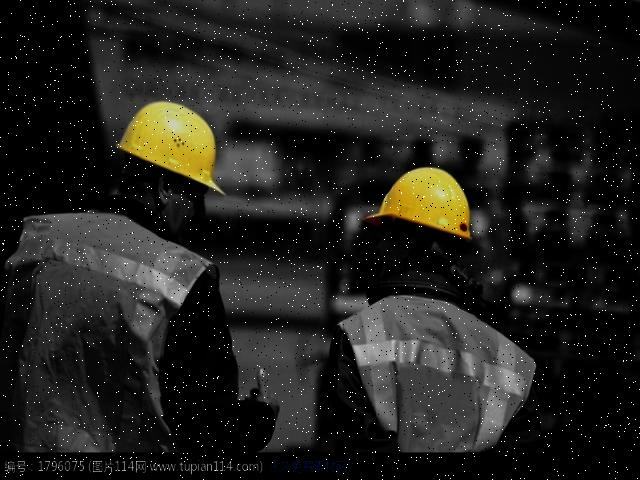Helmet: (110, 95, 232, 200), (357, 161, 478, 247)
